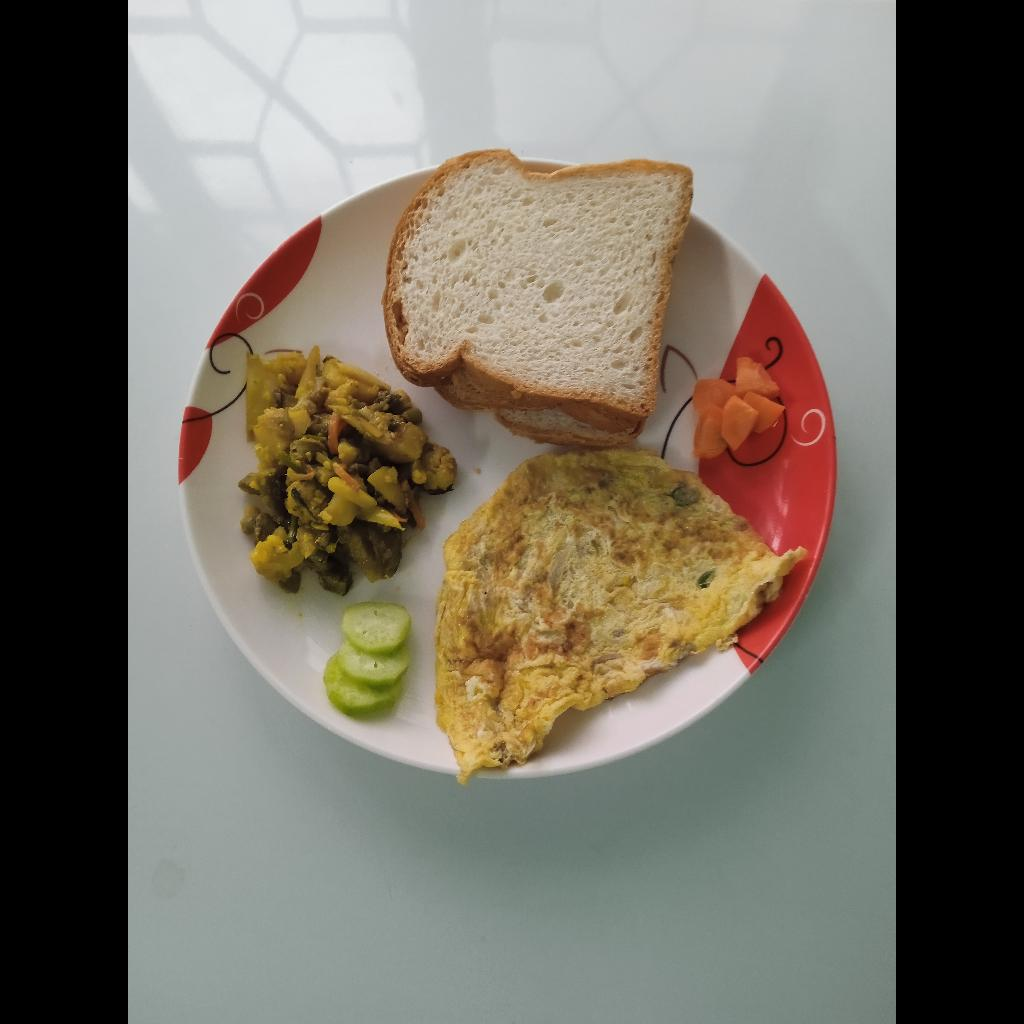bread: (390, 149, 690, 449)
carrot: (696, 361, 785, 462)
cucumber: (319, 601, 419, 714)
egg-poached: (434, 462, 797, 768)
vegetable: (243, 340, 449, 592)
